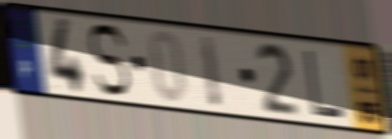0: (147, 28, 190, 107)
2: (254, 41, 301, 119)
4: (46, 15, 88, 97)
I: (197, 32, 225, 111)
L: (302, 47, 348, 121)
S: (85, 21, 132, 99)
